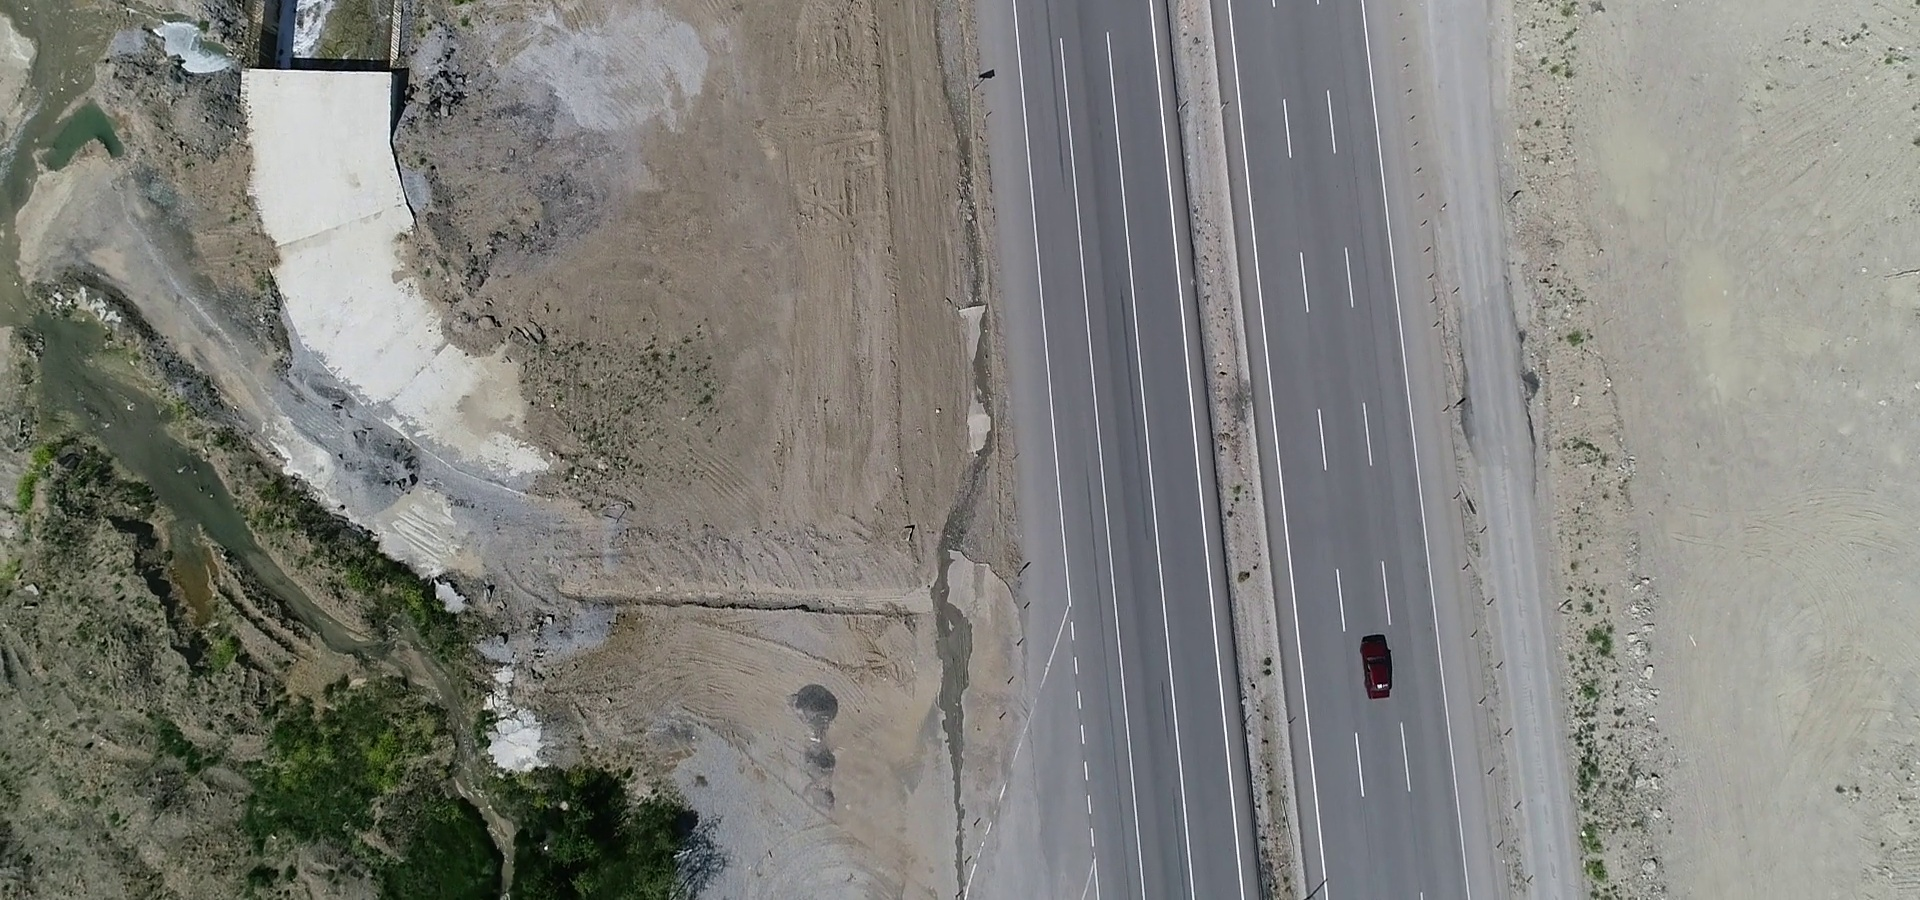arac: (1356, 638, 1403, 703)
